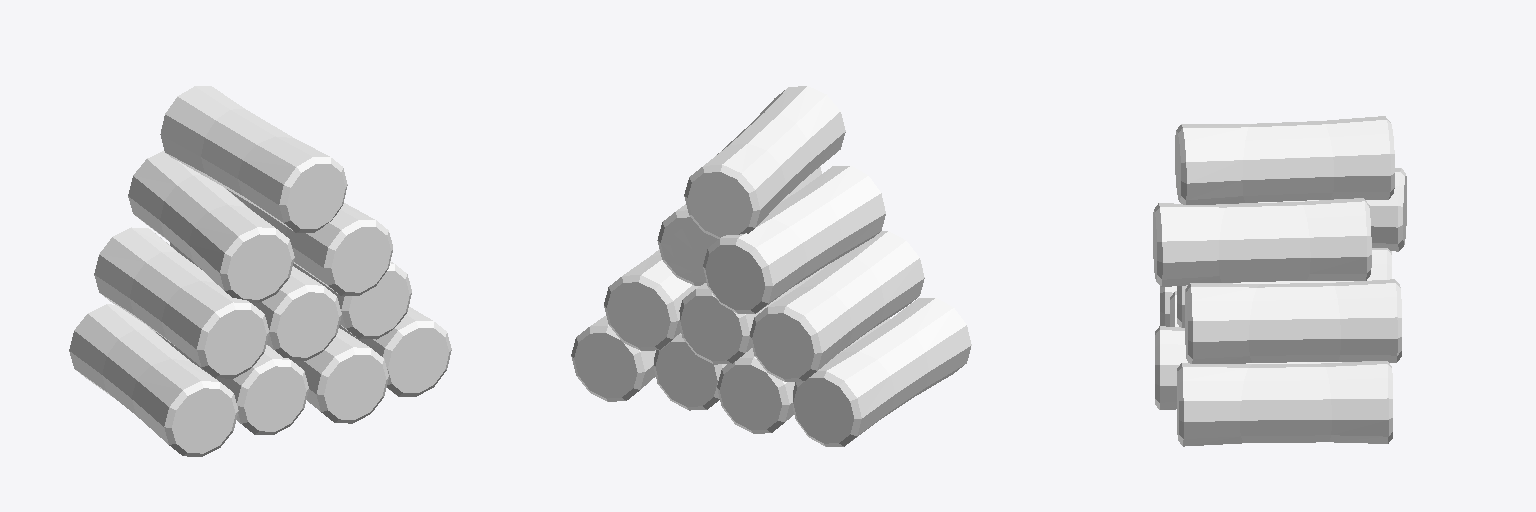
Rendered from log_stacks.obj.
The picture shows the model from 3 angles: view 1: azimuth 30°, elevation 25°; view 2: azimuth 150°, elevation 25°; view 3: azimuth 270°, elevation 25°; orthographic projection.
Visible parts, largest first — view 1: log_stacks_Cylinder.063; view 2: log_stacks_Cylinder.063; view 3: log_stacks_Cylinder.063.
Part boxes in pixels (x1,y1,x2,y2): log_stacks_Cylinder.063: (69, 86, 451, 456); log_stacks_Cylinder.063: (571, 86, 971, 446); log_stacks_Cylinder.063: (1153, 116, 1406, 446).
Size of the model in its own units: 1.7 by 1.45 by 1.27.